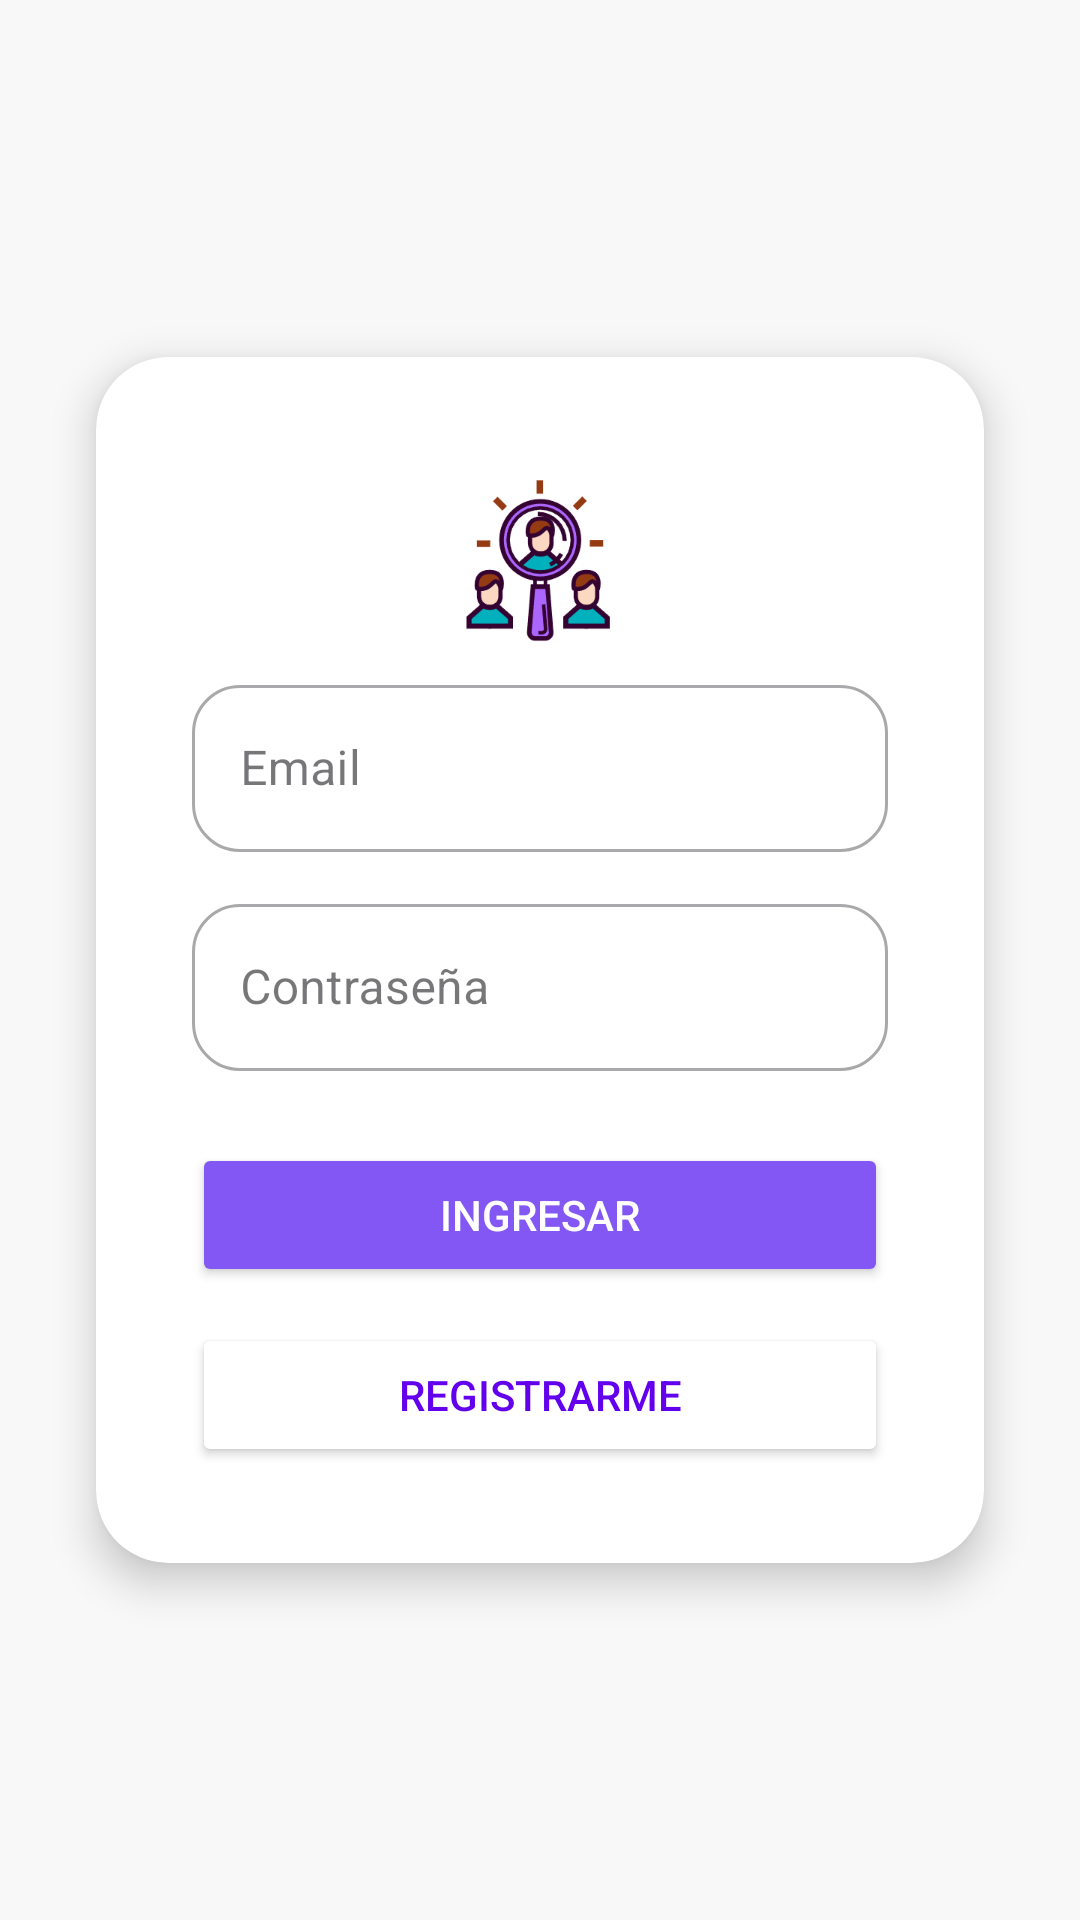

Icons on this 1080x1920 Android screen, each with its box as (x1, y1, x2, y2):
discover: (466, 480, 610, 641)
